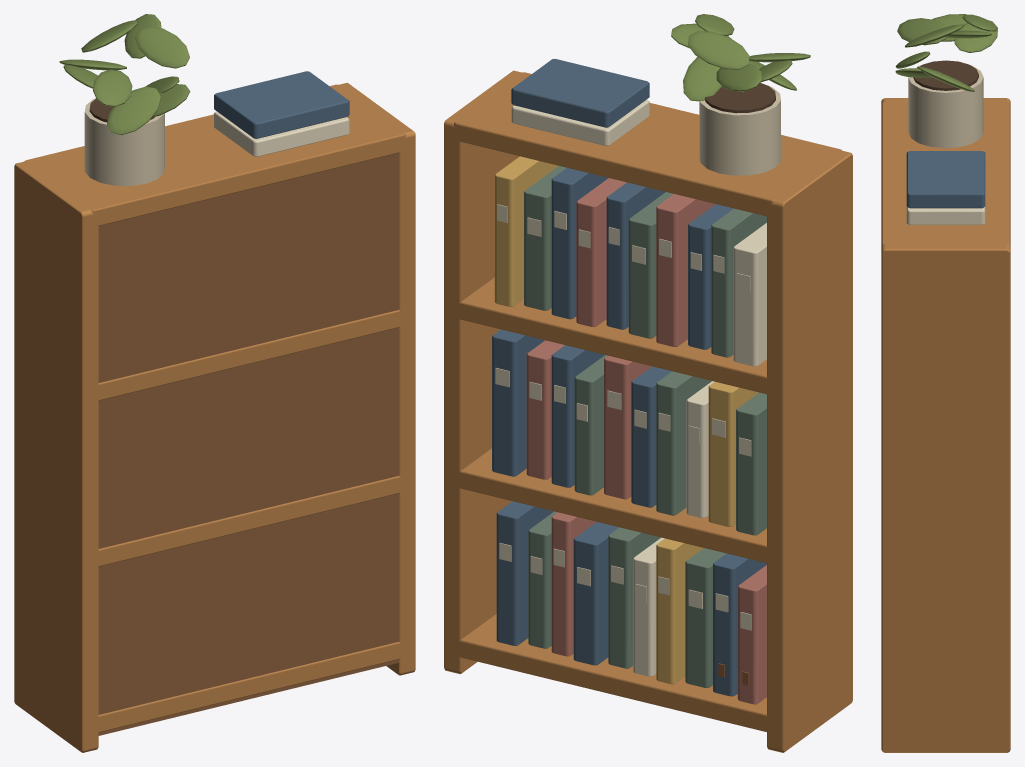
The model's file is prop_bookshelf_sample.glb.
The picture shows the model from 3 angles, left to right: view 1: azimuth 30°, elevation 25°; view 2: azimuth 150°, elevation 25°; view 3: azimuth 270°, elevation 25°; orthographic projection. The views are drawn at different scales.
Visible parts, largest first — view 1: Back, SideLeft, Shelf3, SideRight, TopBook1, Shelf1, Shelf2, Shelf0, Pot, TopBook0, Leaf6, Leaf8 (+3 smaller); view 2: SideLeft, SideRight, Shelf3, Shelf0, Shelf2, Shelf1, TopBook1, Pot, Book1_9, Book2_3, Book0_9, Book0_6 (+31 smaller); view 3: SideRight, Shelf3, TopBook1, Pot, TopBook0, Soil, Leaf1, Leaf7, Leaf8, Leaf0, Leaf2, Leaf4 (+3 smaller).
Boxes of the visible parts, x1=… form: Back: x1=98, y1=153, x2=398, y2=735; SideLeft: x1=14, y1=161, x2=98, y2=752; Shelf3: x1=24, y1=84, x2=406, y2=225; SideRight: x1=339, y1=82, x2=415, y2=675; TopBook1: x1=214, y1=71, x2=349, y2=138; Shelf1: x1=95, y1=476, x2=403, y2=566; Shelf2: x1=95, y1=310, x2=403, y2=400; Shelf0: x1=98, y1=642, x2=404, y2=732; Pot: x1=84, y1=98, x2=164, y2=185; TopBook0: x1=214, y1=111, x2=349, y2=156; Leaf6: x1=107, y1=86, x2=160, y2=135; Leaf8: x1=135, y1=26, x2=189, y2=68; SideLeft: x1=767, y1=150, x2=852, y2=752; SideRight: x1=444, y1=70, x2=521, y2=674; Shelf3: x1=454, y1=72, x2=841, y2=216; Shelf0: x1=455, y1=614, x2=767, y2=731; Shelf2: x1=455, y1=277, x2=767, y2=394; Shelf1: x1=455, y1=448, x2=767, y2=563; TopBook1: x1=511, y1=58, x2=649, y2=127; Pot: x1=699, y1=86, x2=780, y2=175; Book1_9: x1=492, y1=329, x2=544, y2=476; Book2_3: x1=656, y1=194, x2=715, y2=346; Book0_9: x1=496, y1=501, x2=553, y2=645; Book0_6: x1=573, y1=522, x2=618, y2=665; SideRight: x1=881, y1=242, x2=1010, y2=752; Shelf3: x1=881, y1=102, x2=1010, y2=246; TopBook1: x1=906, y1=151, x2=985, y2=208; Pot: x1=908, y1=65, x2=983, y2=148; TopBook0: x1=906, y1=206, x2=985, y2=224; Soil: x1=913, y1=60, x2=978, y2=90; Leaf1: x1=897, y1=18, x2=946, y2=45; Leaf7: x1=954, y1=20, x2=997, y2=52; Leaf8: x1=905, y1=24, x2=963, y2=47; Leaf0: x1=917, y1=66, x2=974, y2=91; Leaf2: x1=962, y1=14, x2=997, y2=31; Leaf4: x1=932, y1=14, x2=966, y2=41.
Bounding box in the file's own units: 1 × 1.92 × 0.36.
